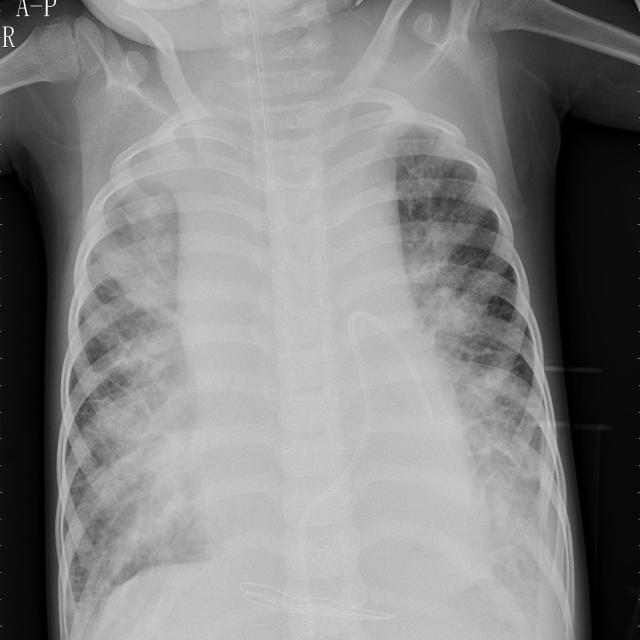high-pneumonia: (405, 137, 565, 592), (73, 194, 191, 601)
